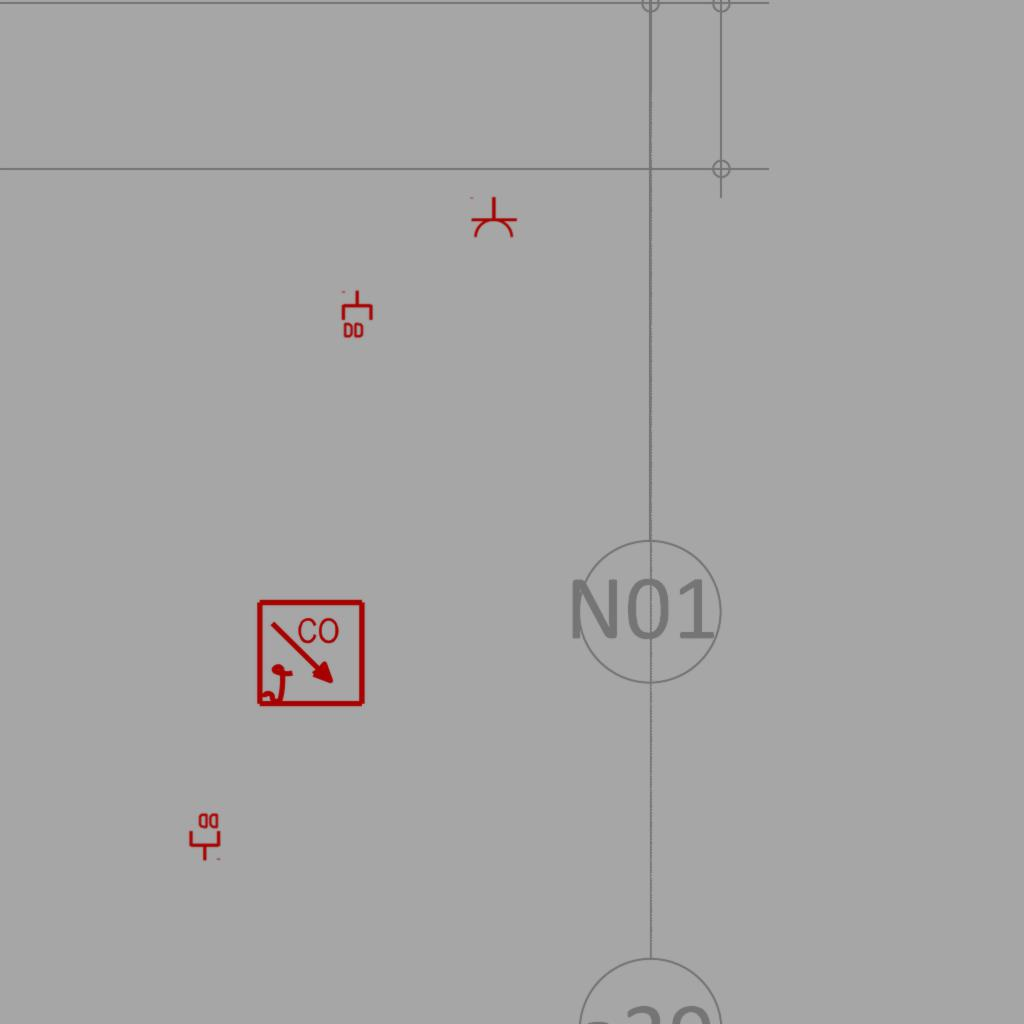Datenanschluss_zweifach: (341, 289, 375, 340), (187, 811, 221, 862)
ROA_Rauchmelder_optisch_mit_Signalgeber_(Sockelsirene): (255, 598, 368, 711)
Schukosteckdose_einfach: (468, 196, 518, 239)
